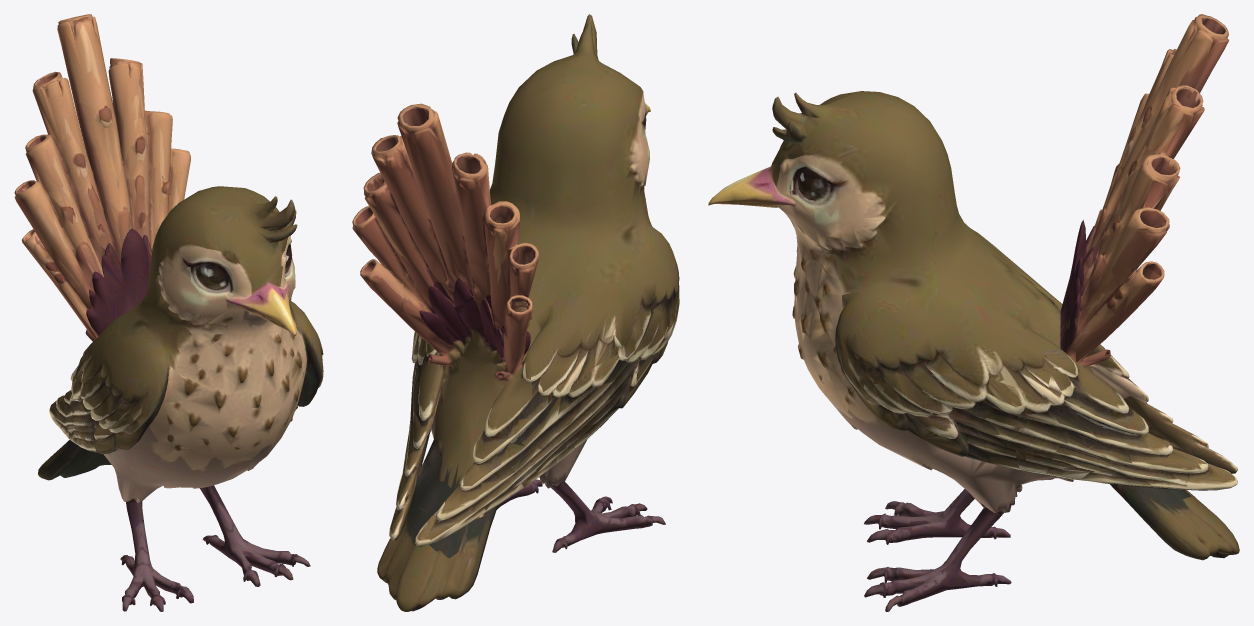
The picture shows the model from 3 angles, left to right: view 1: azimuth 30°, elevation 25°; view 2: azimuth 150°, elevation 25°; view 3: azimuth 270°, elevation 25°; orthographic projection. The views are drawn at different scales.
Visible parts, largest first — view 1: Mesh_0; view 2: Mesh_0; view 3: Mesh_0.
Boxes of the visible parts, x1=… form: Mesh_0: x1=14, y1=14, x2=323, y2=611; Mesh_0: x1=352, y1=14, x2=679, y2=611; Mesh_0: x1=708, y1=14, x2=1239, y2=611.
Size of the model in its own units: 0.8678 by 1.9 by 1.69.
Materials: 1 (1 with a texture image).
